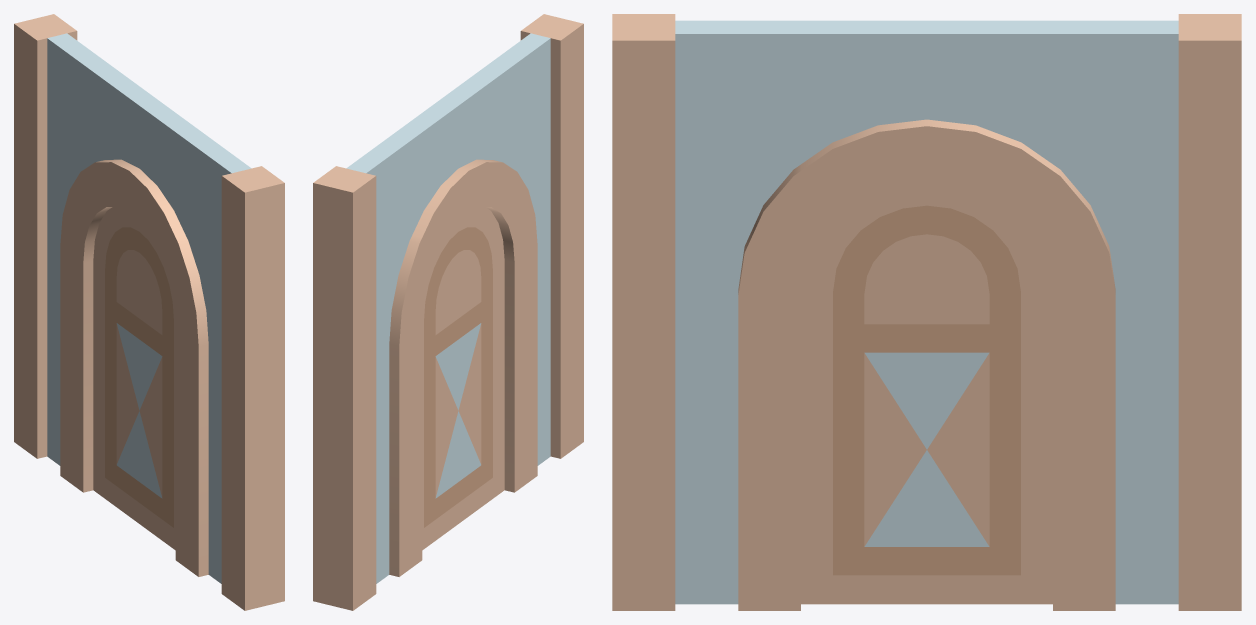
3 views of the same model, side by side, from view 1: azimuth 30°, elevation 25°; view 2: azimuth 150°, elevation 25°; view 3: azimuth 270°, elevation 25° (orthographic). The views are drawn at different scales.
Visible parts, largest first — view 1: wallDoor, door; view 2: wallDoor, door; view 3: wallDoor, door.
Boxes of the visible parts, x1,y1,x2,y2 form: wallDoor: (14,14,284,610); door: (93,207,175,550); wallDoor: (313,14,583,610); door: (422,207,504,550); wallDoor: (612,14,1241,610); door: (801,183,1052,604).
Size of the model in its own units: 0.1 by 1 by 1.
